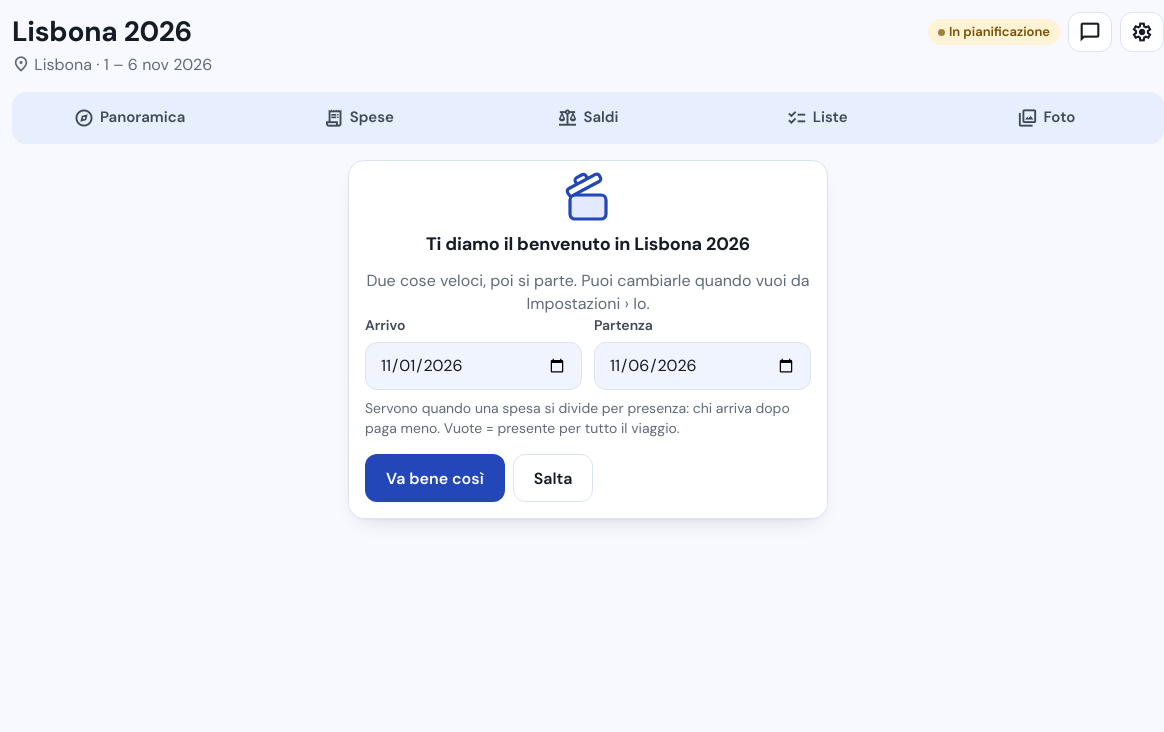
«Salta» non salva niente; le date uguali al viaggio non si inviano
This screenshot has width=1164, height=732.
Check: the heading "Ti diamo il benvenuto in Lisbona 2026" is shown, box [426,232,750,256]
Step 1. Click the button "Salta" → (553, 478), box [513,454,593,502]
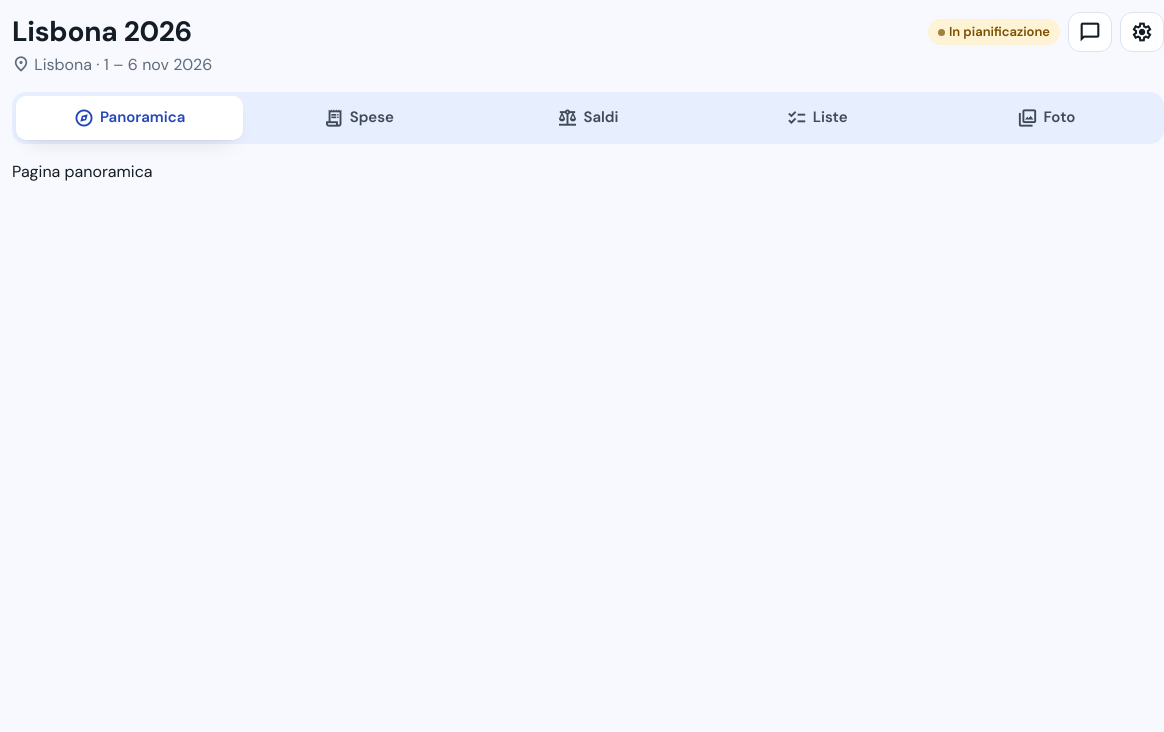
Check: the text "Pagina panoramica" is shown, box [12,161,152,182]
